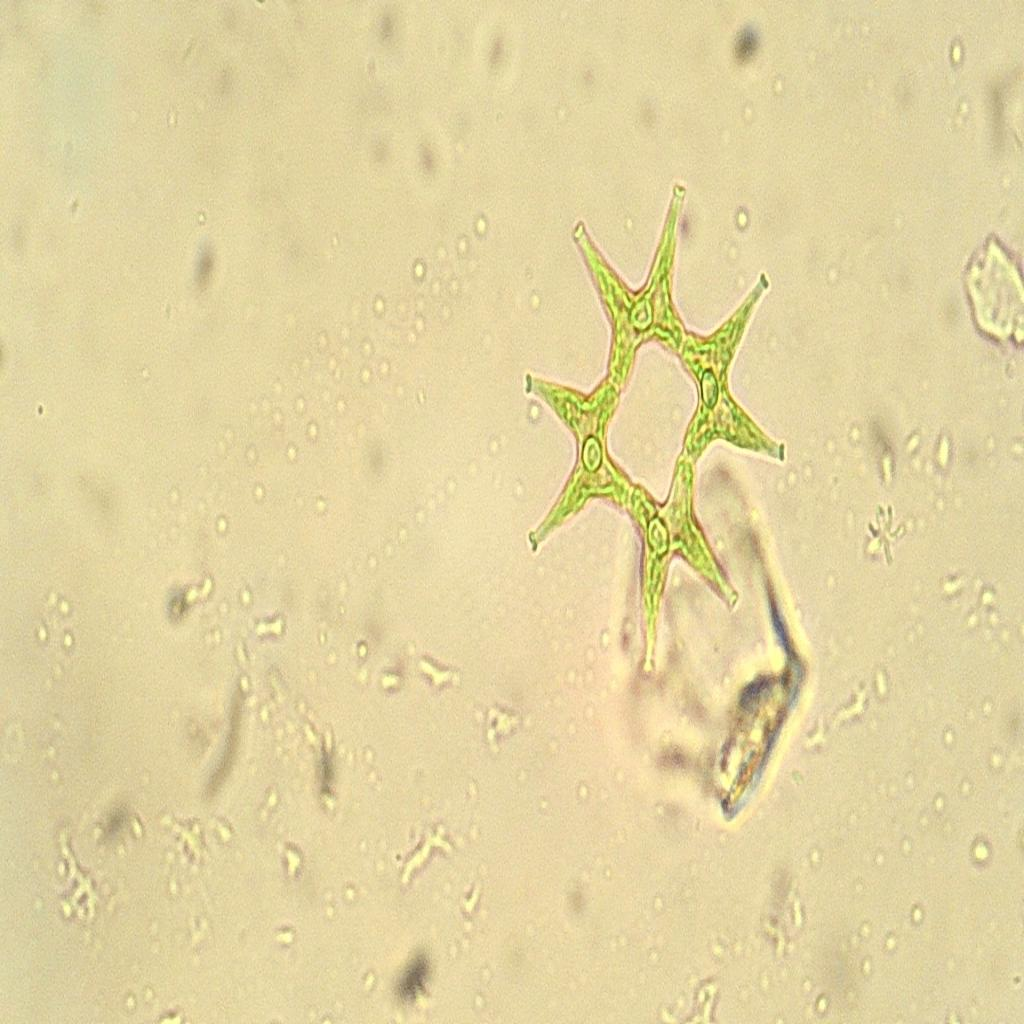Pediastrum_10: (498, 174, 814, 695)
